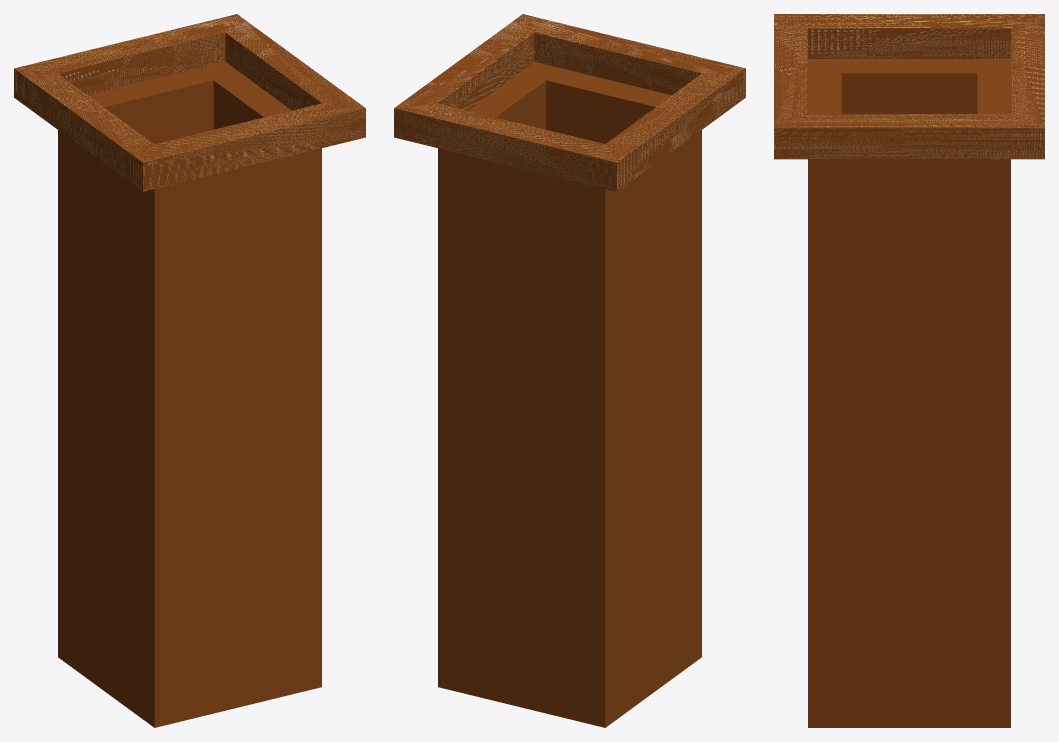
File: chimney_top_long.fbx
3 views of the same model, side by side, from view 1: azimuth 30°, elevation 25°; view 2: azimuth 150°, elevation 25°; view 3: azimuth 270°, elevation 25° (orthographic). The views are drawn at different scales.
Parts seen in each view (by area): view 1: Mesh1_Chimney3_1 Model; view 2: Mesh1_Chimney3_1 Model; view 3: Mesh1_Chimney3_1 Model.
Boxes of the visible parts, x1=… form: Mesh1_Chimney3_1 Model: x1=14, y1=14, x2=365, y2=727; Mesh1_Chimney3_1 Model: x1=394, y1=14, x2=745, y2=727; Mesh1_Chimney3_1 Model: x1=774, y1=14, x2=1044, y2=727.
Bounding box in the file's own units: 0.4 × 1 × 0.4.
